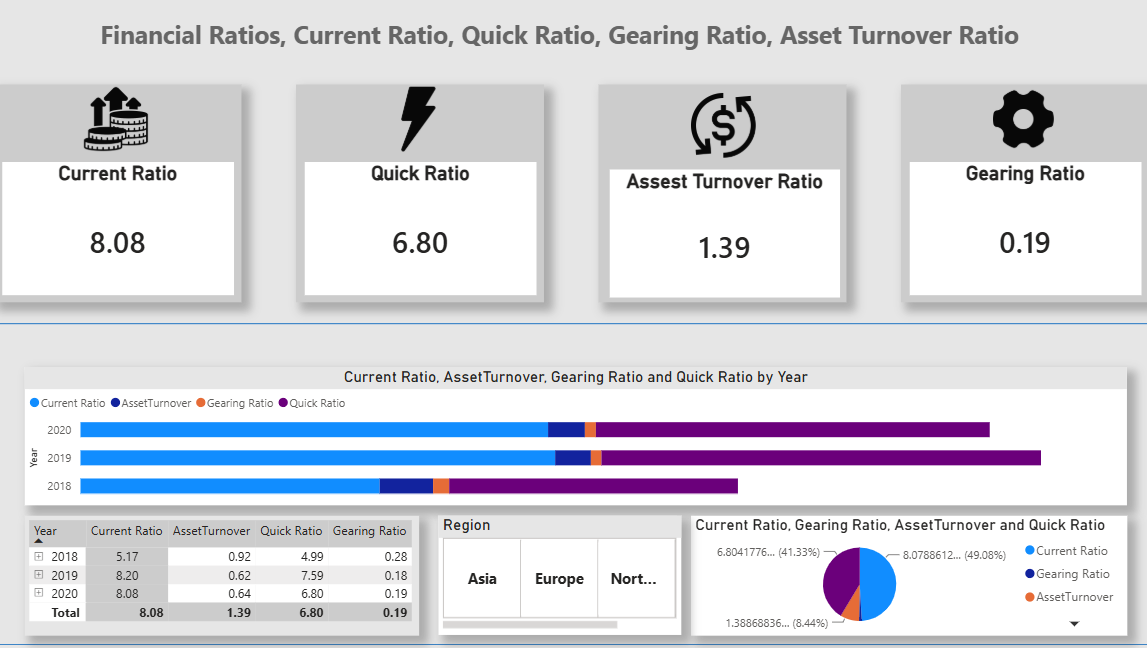

What the dashboard file says about the page in this screenshot:
{"tool":"powerbi","page":{"name":"Ratios","canvas":[1280,720],"ordinal":4},"visuals":[{"type":"shape","box":[0,0,1280,90.7],"z":0},{"type":"shape","box":[24.9,101,269.3,237.1],"z":0,"group":"g1"},{"type":"shape","box":[353.7,101,269.3,237.1],"z":0,"group":"g2"},{"type":"shape","box":[682.4,101,269.3,237.1],"z":0,"group":"g3"},{"type":"shape","box":[1010.7,101,269.3,237.1],"z":0,"group":"g4"},{"type":"group","id":"g1","title":"Group 1","box":[24.9,101,269.3,237.1],"z":1000},{"type":"group","id":"g2","title":"Group 1","box":[353.7,101,269.3,237.1],"z":2000},{"type":"cardVisual","title":"Current Ratio","fields":{"Data":["GL.Current Ratio"]},"box":[33.9,185.4,251.7,144.9],"z":2000,"group":"g1"},{"type":"cardVisual","title":"Quick Ratio","fields":{"Data":["GL.Quick Ratio"]},"box":[362.7,185.4,251.7,144.9],"z":2000,"group":"g2"},{"type":"cardVisual","title":"Gearing Ratio","fields":{"Data":["GL.Gearing Ratio"]},"box":[1019.7,185.4,251.7,144.9],"z":2000,"group":"g4"},{"type":"cardVisual","title":"Assest Turnover Ratio","fields":{"Data":["GL.AssetTurnover"]},"box":[694.9,193.2,250.2,139],"z":2000,"group":"g3"},{"type":"group","id":"g3","title":"Group 1","box":[682.4,101,269.3,237.1],"z":3000},{"type":"shape","box":[24.9,360,1255.6,349.8],"z":4000},{"type":"group","id":"g4","title":"Group 1","box":[1010.7,101,269.3,237.1],"z":5000},{"type":"barChart","fields":{"Category":["Calendar.Date.Variation.Date Hierarchy.Year","Calendar.Date.Variation.Date Hierarchy.Quarter","Calendar.Date.Variation.Date Hierarchy.Month","Calendar.Date.Variation.Date Hierarchy.Day"],"Y":["GL.Current Ratio","GL.AssetTurnover","GL.Gearing Ratio","GL.Quick Ratio"]},"box":[58.5,408.3,1198.5,150.7],"z":6000},{"type":"pivotTable","fields":{"Values":["GL.Current Ratio","GL.AssetTurnover","GL.Quick Ratio","GL.Gearing Ratio"],"Rows":["Calendar.Date.Variation.Date Hierarchy.Year","Calendar.Date.Variation.Date Hierarchy.Quarter","Calendar.Date.Variation.Date Hierarchy.Month","Calendar.Date.Variation.Date Hierarchy.Day"]},"box":[58.5,569.3,428.8,130.2],"z":7000},{"type":"image","box":[122.9,101,70.2,74.6],"z":7001,"group":"g1"},{"type":"image","box":[451.7,101,70.2,74.6],"z":7001,"group":"g2"},{"type":"image","box":[1108.7,101,70.2,74.6],"z":7001,"group":"g4"},{"type":"image","box":[782.9,108.3,70.2,74.6],"z":7001,"group":"g3"},{"type":"pieChart","fields":{"Y":["GL.Current Ratio","GL.Gearing Ratio","GL.AssetTurnover","GL.Quick Ratio"]},"box":[782.9,569.3,474.1,130.2],"z":8000},{"type":"advancedSlicerVisual","fields":{"Values":["Territory.Region"]},"box":[508,569.4,264,129.5],"z":9000}]}

Visuals, with their boxes in screenshot pixels (x1, y1, x2, y2), scaled from the page's 1280x720 canvas onto the 1147x648 screenshot:
shape: box=[0, 0, 1146, 82]
shape: box=[22, 91, 264, 304]
shape: box=[317, 91, 558, 304]
shape: box=[611, 91, 853, 304]
shape: box=[906, 91, 1146, 304]
"Group 1" group: box=[22, 91, 264, 304]
"Group 1" group: box=[317, 91, 558, 304]
"Current Ratio" cardVisual: box=[30, 167, 256, 297]
"Quick Ratio" cardVisual: box=[325, 167, 551, 297]
"Gearing Ratio" cardVisual: box=[914, 167, 1139, 297]
"Assest Turnover Ratio" cardVisual: box=[623, 174, 847, 299]
"Group 1" group: box=[611, 91, 853, 304]
shape: box=[22, 324, 1146, 639]
"Group 1" group: box=[906, 91, 1146, 304]
barChart - Calendar.Date.Variation.Date Hierarchy.Year x Calendar.Date.Variation.Date Hierarchy.Quarter: box=[52, 367, 1126, 503]
pivotTable - GL.Current Ratio x GL.AssetTurnover: box=[52, 512, 437, 630]
image: box=[110, 91, 173, 158]
image: box=[405, 91, 468, 158]
image: box=[993, 91, 1056, 158]
image: box=[702, 97, 764, 165]
pieChart - GL.Current Ratio x GL.Gearing Ratio: box=[702, 512, 1126, 630]
advancedSlicerVisual - Territory.Region: box=[455, 512, 692, 629]
